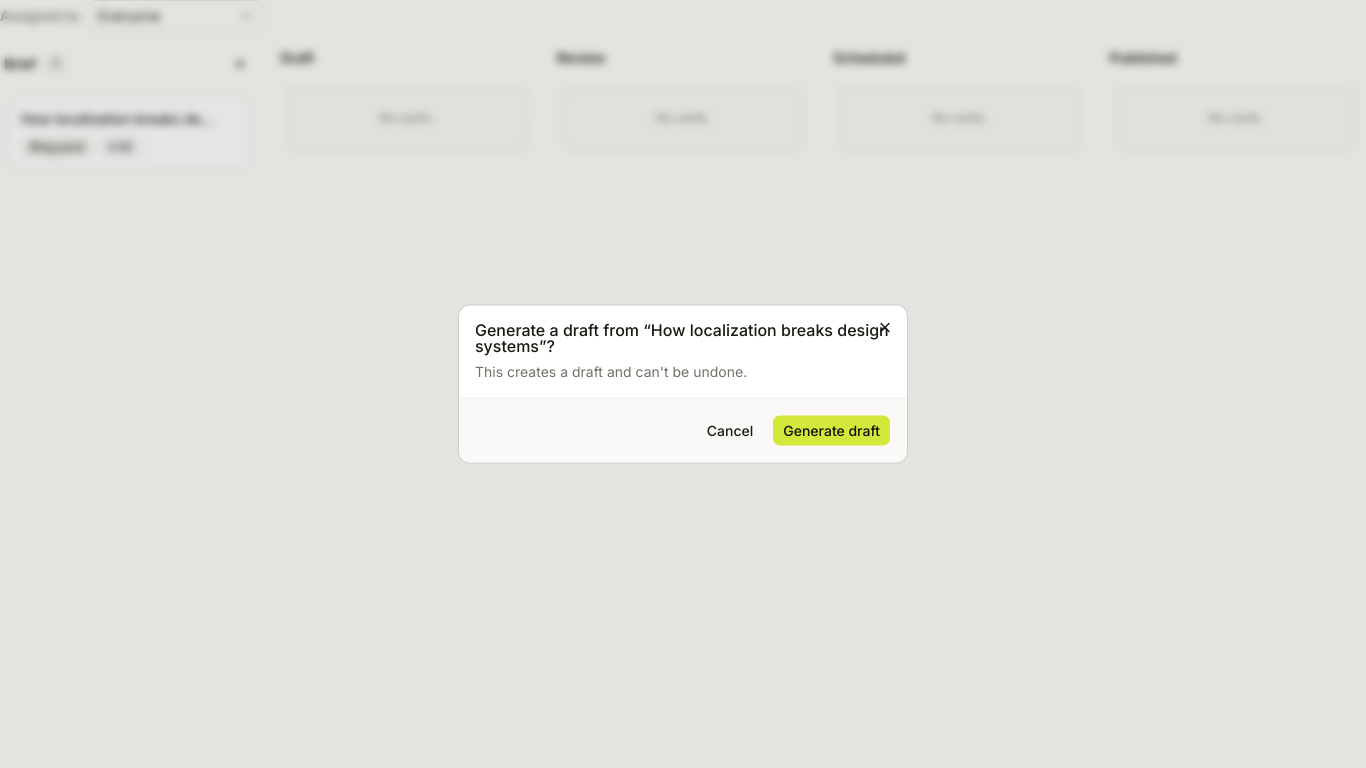
Test: the board's drop onto Draft, into the modal › surfaces a failure at once, with no pacing floor in front of it
Click the button "Generate draft" at x=832, y=430, box [772,414,891,446]
Wait 3000 ms
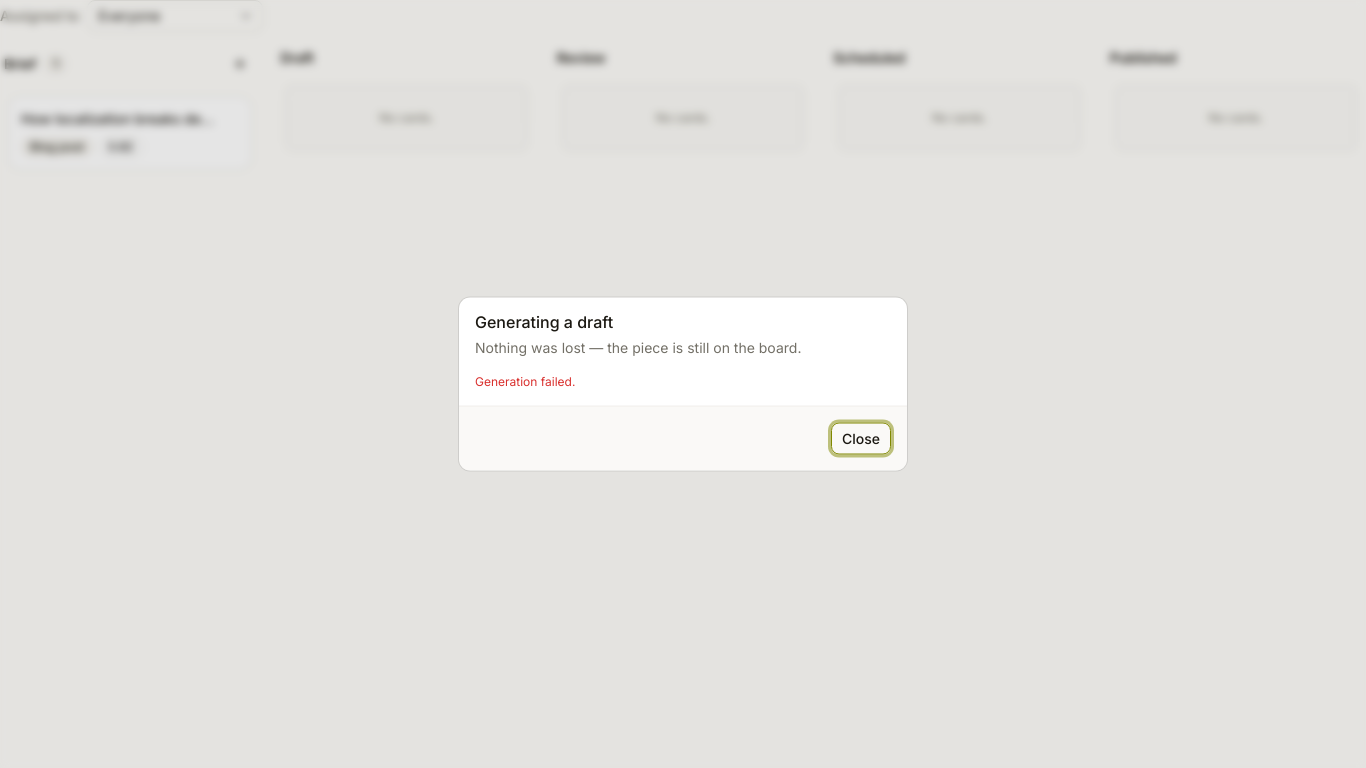
Expected: the text "Generation failed." is shown, [475,374,575,388]
